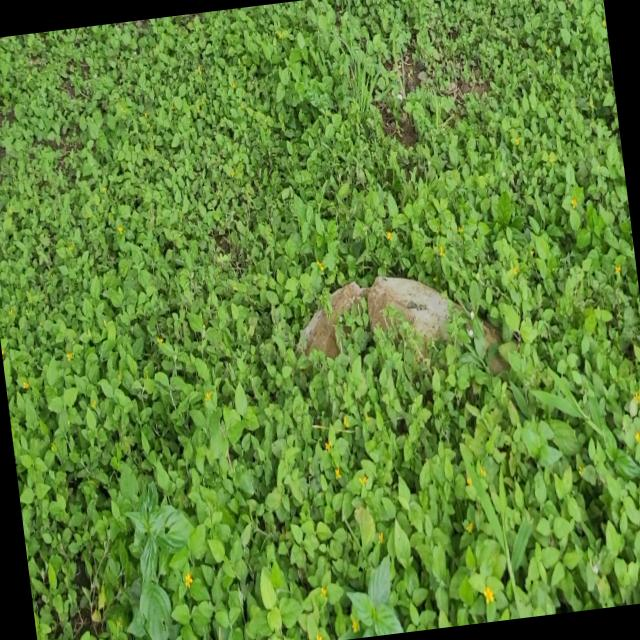grass: (0, 0, 639, 624), (111, 233, 640, 640), (556, 492, 561, 499)
stone: (301, 277, 450, 357)
